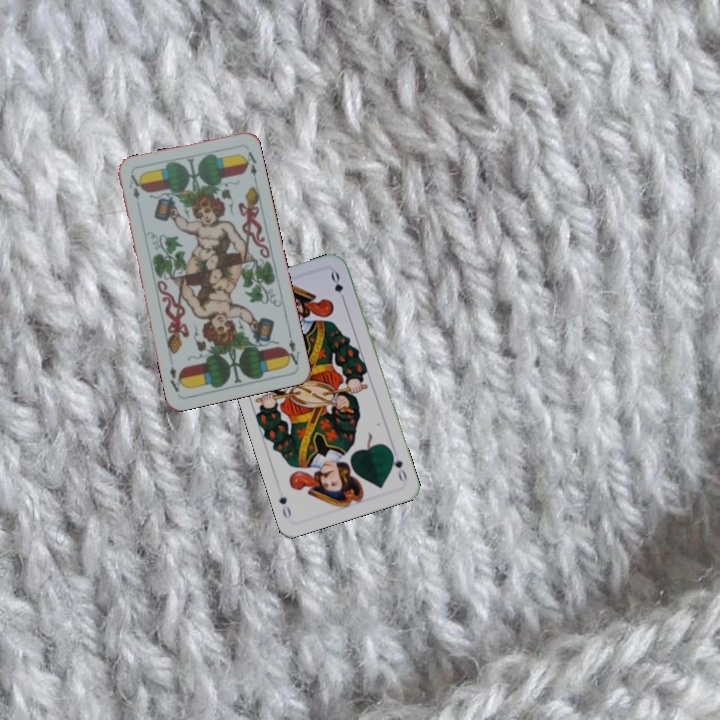EA: (281, 328, 302, 368), (125, 170, 143, 211)
GO: (387, 447, 410, 486)
